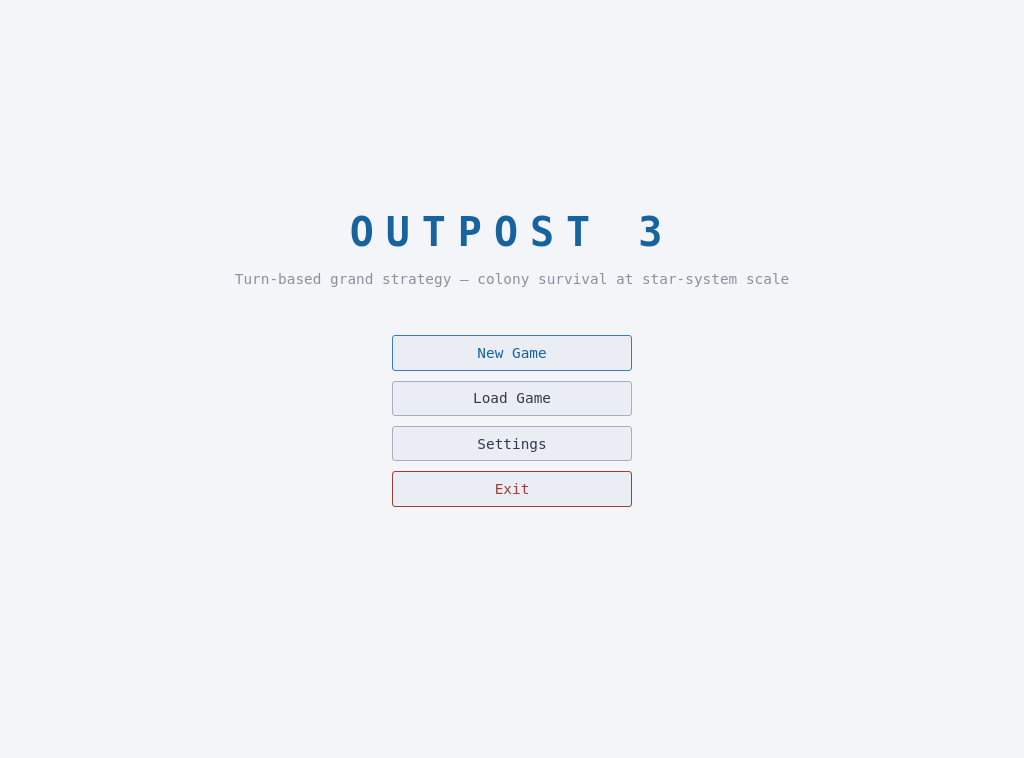
Scenario: MainMenuView system-generation sliders (playtest feedback round 3, Tauri desktop New Game panel) › renders a habitable-zone, inner-planet-count, and abundance slider with sane defaults
This screenshot has width=1024, height=758.
Click the button with test id "btn-new-game": (512, 353) [392, 335, 632, 371]
(page scrolled)
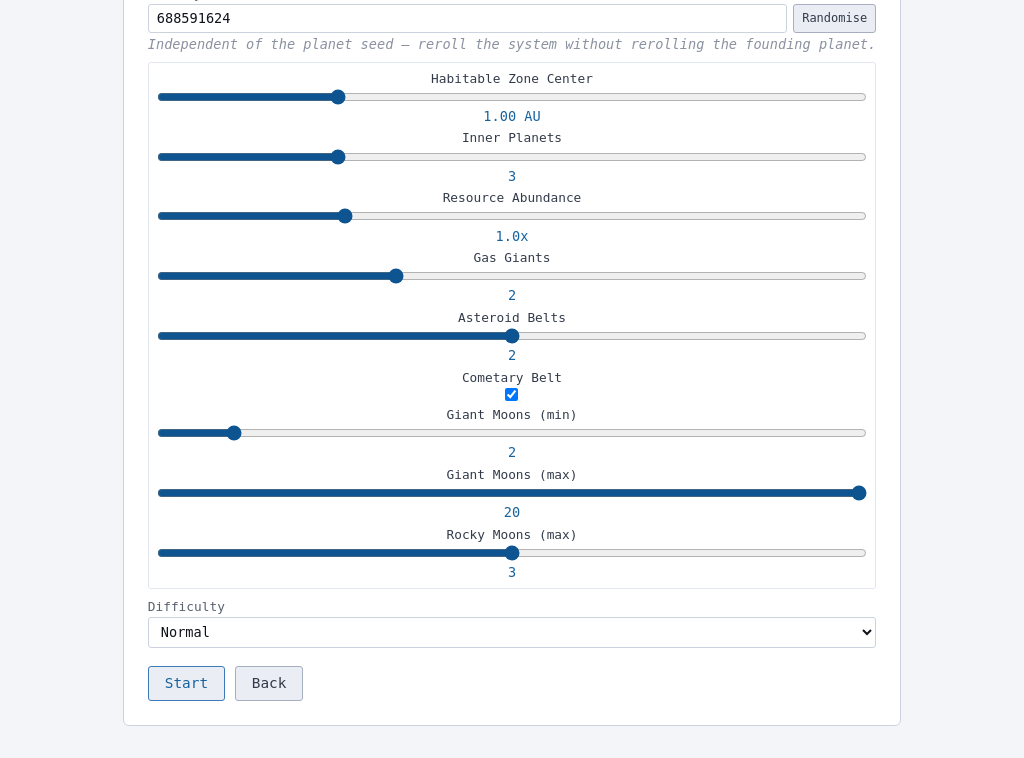
Check: the slider with test id "hz-center-slider" holds "1", box [157, 89, 867, 105]
Check: the slider with test id "inner-planet-count-slider" holds "3", box [157, 149, 867, 165]
Check: the slider with test id "abundance-slider" holds "1", box [157, 208, 867, 224]
